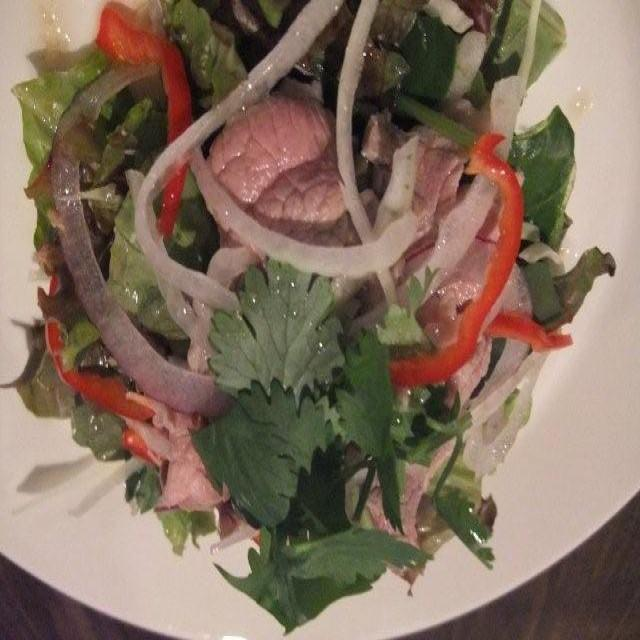Green Salad: (52, 3, 572, 576)
